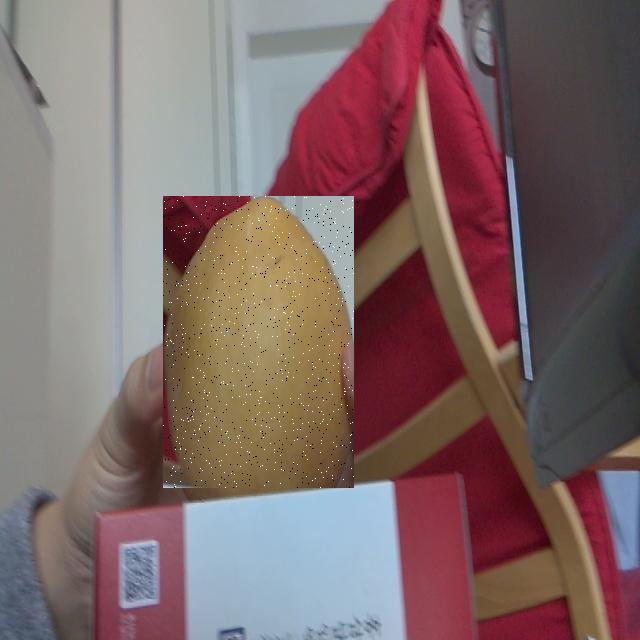pear: (163, 196, 354, 488)
